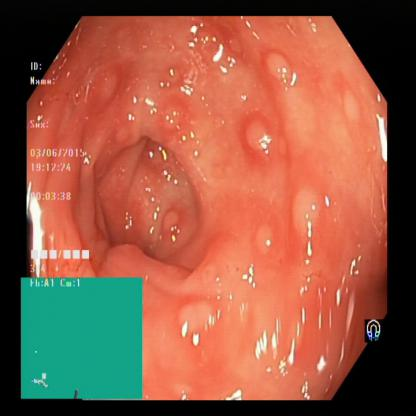Labels: (27, 58, 103, 276), (20, 275, 144, 400)
Polyps: (279, 172, 330, 252), (159, 296, 231, 350), (236, 112, 292, 165), (141, 80, 190, 138), (255, 43, 298, 97), (156, 204, 193, 250), (236, 222, 281, 258), (338, 79, 364, 136)
